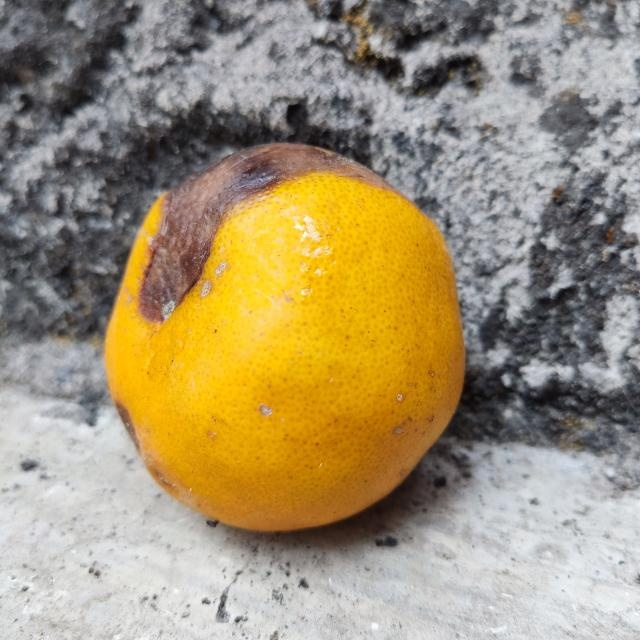agrume: (107, 142, 465, 532)
